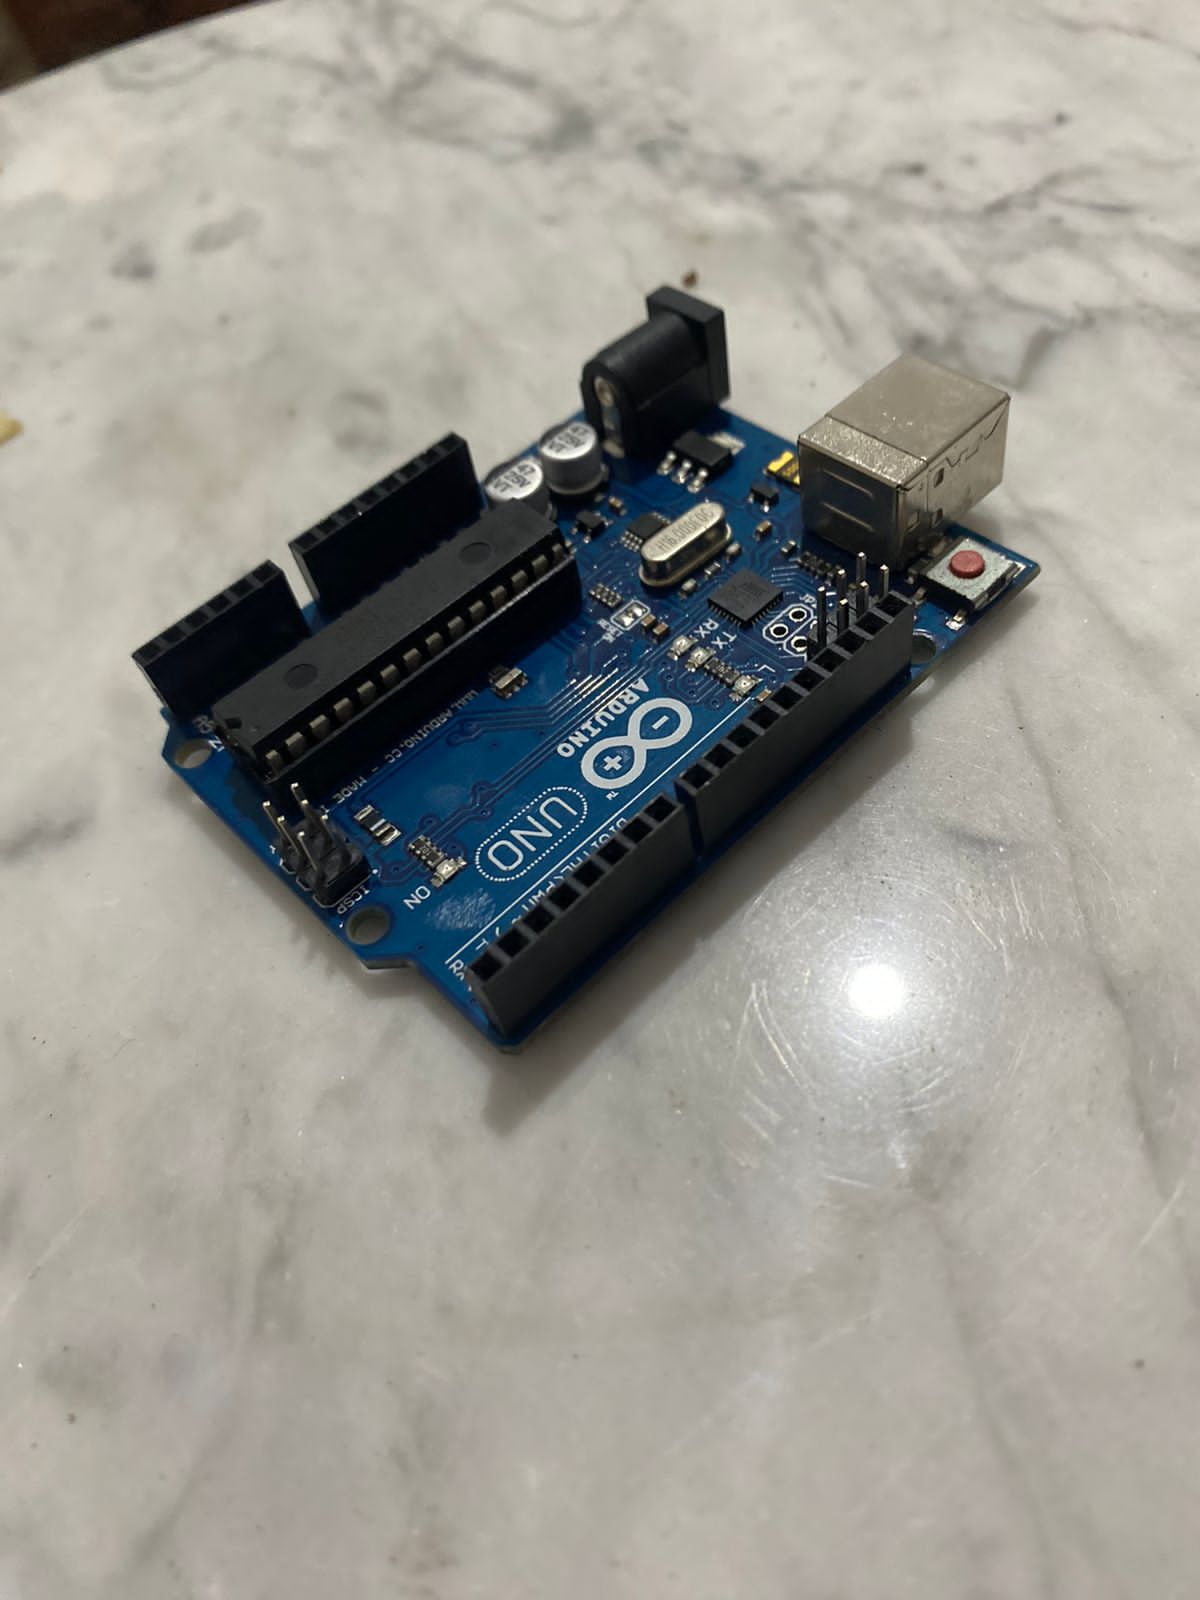arduino-uno: (137, 272, 1047, 1043)
